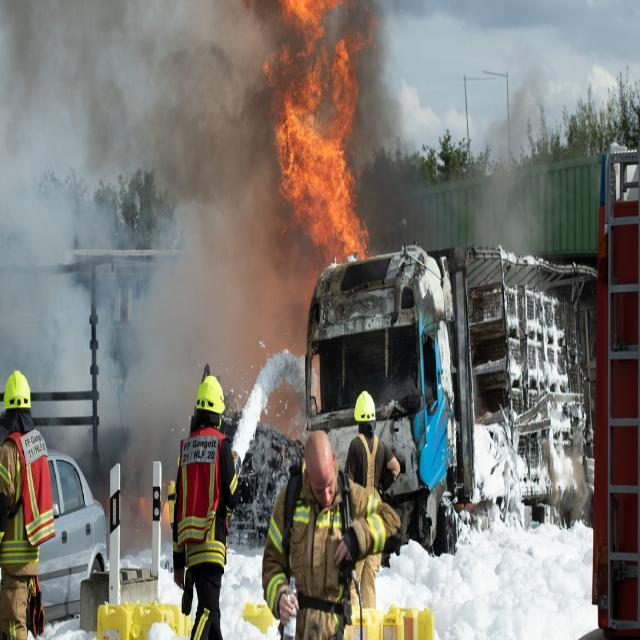Fire: (254, 0, 375, 267)
Smoke: (0, 0, 317, 488), (338, 0, 564, 252)
